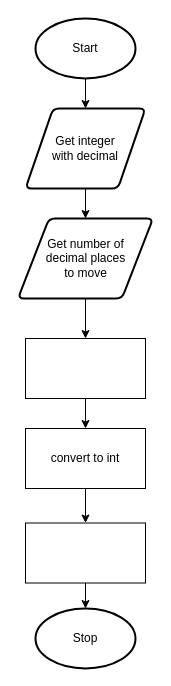
Image size: 171x686. Some labels were removed from this diagram. The centre of each missing label's shape, as x and y in pixels:
"For (i) in range multiply by 10, add 0.5" goes at [85,368].
"move decimal spaces back" goes at [85,552].
